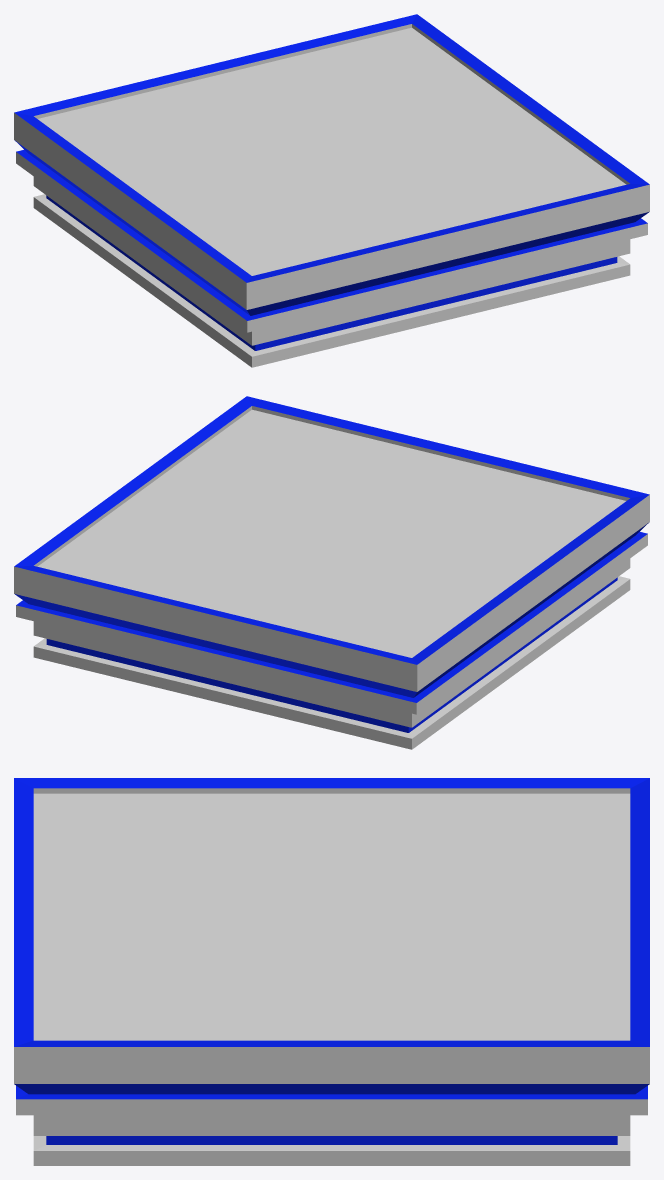
File: cyberpunk tile3.fbx
3 views of the same model, one above another, from view 1: azimuth 30°, elevation 25°; view 2: azimuth 150°, elevation 25°; view 3: azimuth 270°, elevation 25° (orthographic). The views are drawn at different scales.
Parts seen in each view (by area): view 1: Cube; view 2: Cube; view 3: Cube.
Boxes of the visible parts, <box> form: Cube: <box>14,14,649,367</box>; Cube: <box>14,396,649,749</box>; Cube: <box>14,778,649,1165</box>.
Size of the model in its own units: 619 by 137 by 619.
